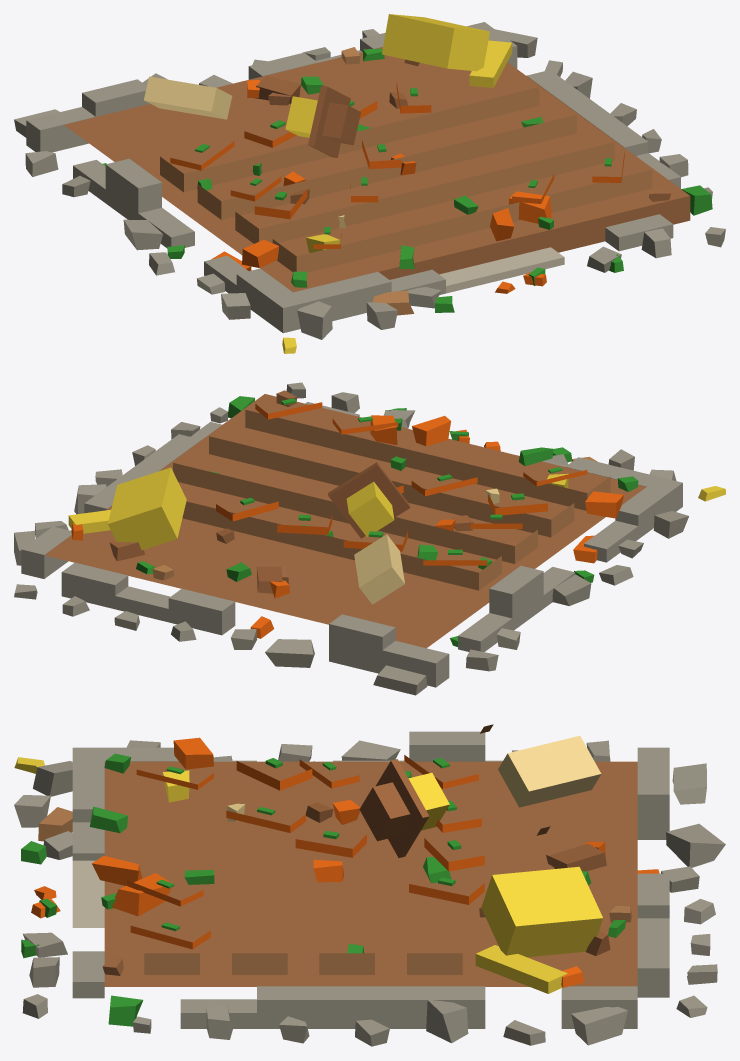
The model's file is field_t3_v3_dmg2.glb.
The picture shows the model from 3 angles, top to bottom: view 1: azimuth 30°, elevation 25°; view 2: azimuth 150°, elevation 25°; view 3: azimuth 270°, elevation 25°; orthographic projection. The views are drawn at different scales.
Parts seen in each view (by area): view 1: field_t3_v3_dmg2; view 2: field_t3_v3_dmg2; view 3: field_t3_v3_dmg2.
Boxes of the visible parts, x1,y1,x2,y2 form: field_t3_v3_dmg2: [14, 14, 725, 353]; field_t3_v3_dmg2: [14, 382, 725, 695]; field_t3_v3_dmg2: [14, 724, 725, 1046].
Size of the model in its own units: 0.8769 by 0.1652 by 0.8948.
1 material, 1 textured.
